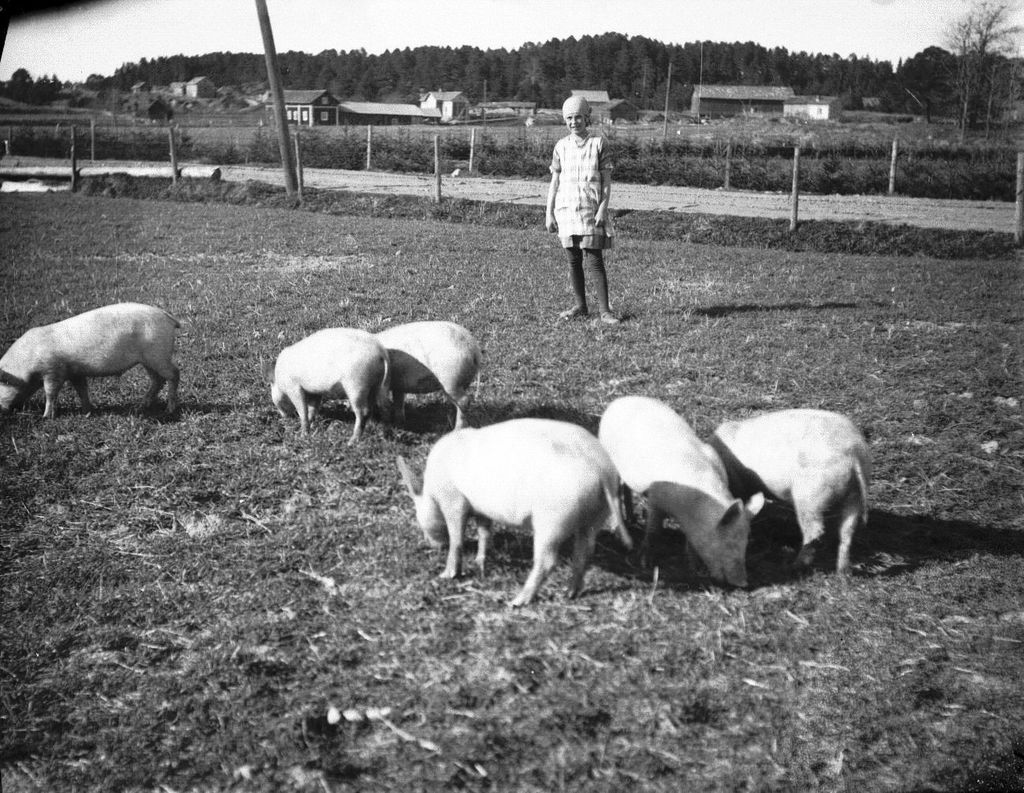Person: (544, 95, 620, 324)
